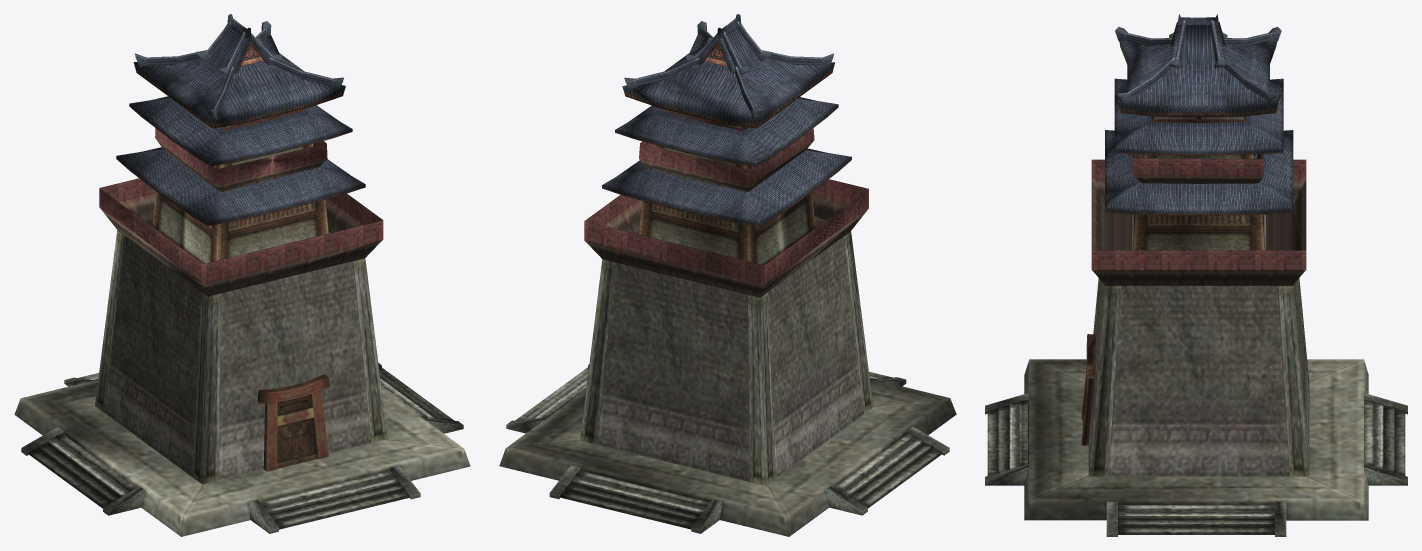
File: archer tower_01.fbx
The picture shows the model from 3 angles, left to right: view 1: azimuth 30°, elevation 25°; view 2: azimuth 150°, elevation 25°; view 3: azimuth 270°, elevation 25°; orthographic projection. The views are drawn at different scales.
Visible parts, largest first — view 1: archer_tower; view 2: archer_tower; view 3: archer_tower.
Part boxes in pixels (box(x1,y1,x2,y2)): archer_tower: box(14, 14, 470, 536); archer_tower: box(499, 14, 956, 536); archer_tower: box(985, 14, 1407, 536).
Size of the model in its own units: 11675 by 13179 by 11675.
